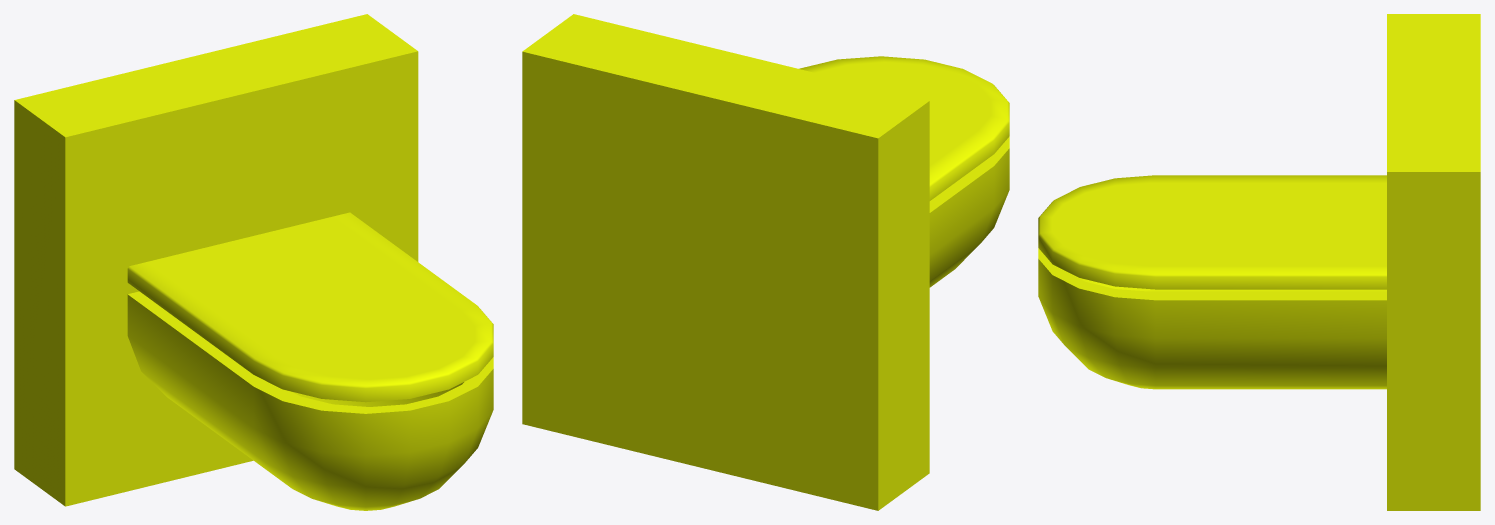
Rendered from Toilet1.FBX.
The picture shows the model from 3 angles, left to right: view 1: azimuth 30°, elevation 25°; view 2: azimuth 150°, elevation 25°; view 3: azimuth 270°, elevation 25°; orthographic projection. The views are drawn at different scales.
Visible parts, largest first — view 1: Object002; view 2: Object002; view 3: Object002.
Boxes of the visible parts, box(x1,y1,x2,y2) form: Object002: box(14, 14, 493, 510); Object002: box(522, 14, 1009, 510); Object002: box(1038, 14, 1480, 510).
Size of the model in its own units: 0.9841 by 0.9841 by 1.16.
